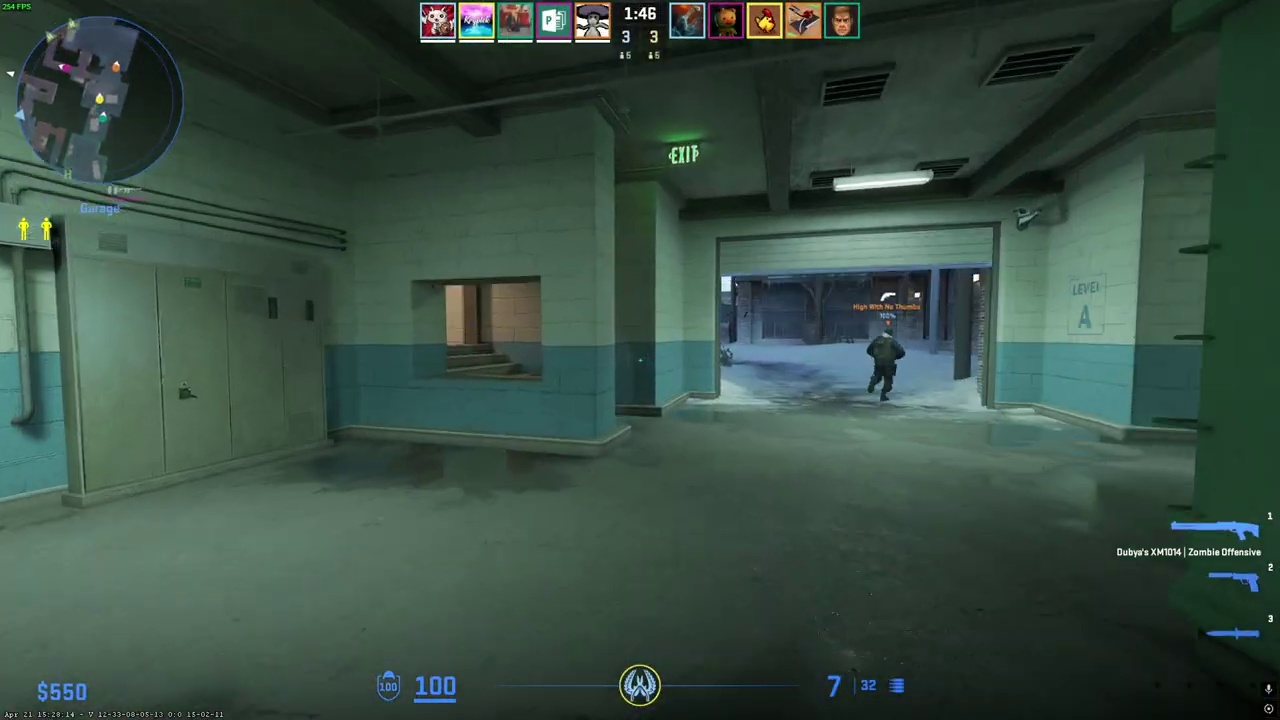CT: (867, 329, 900, 401)
